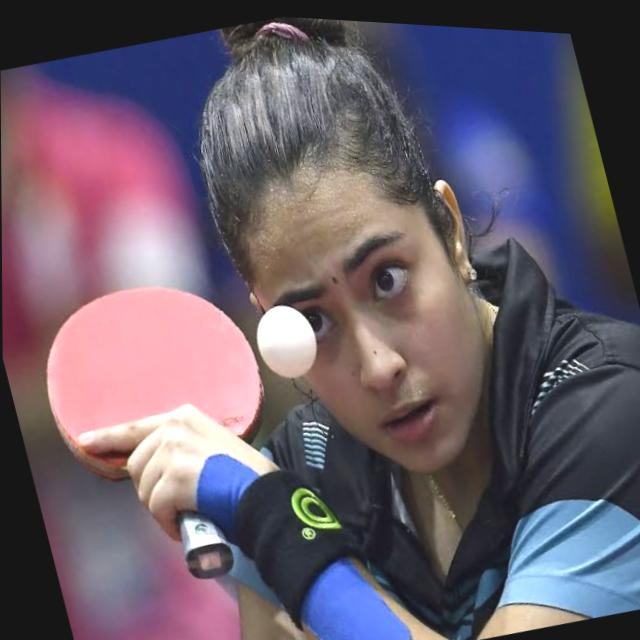TT Racket: (22, 256, 284, 496)
